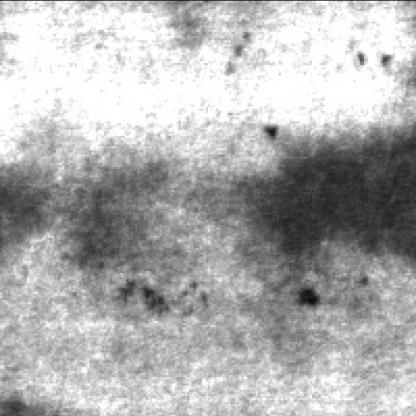patches: (258, 140, 416, 266), (69, 152, 166, 279), (6, 160, 65, 254)
